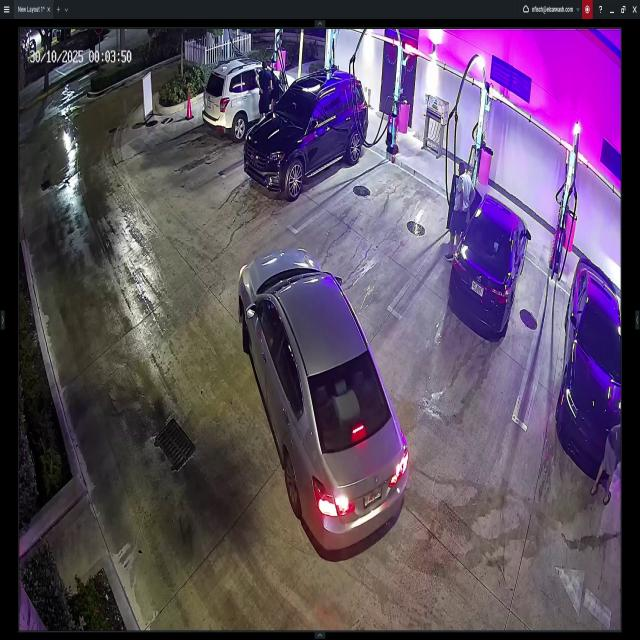Car: (238, 245, 410, 548), (244, 72, 369, 200), (442, 171, 531, 343), (558, 253, 622, 478), (206, 57, 296, 139)
